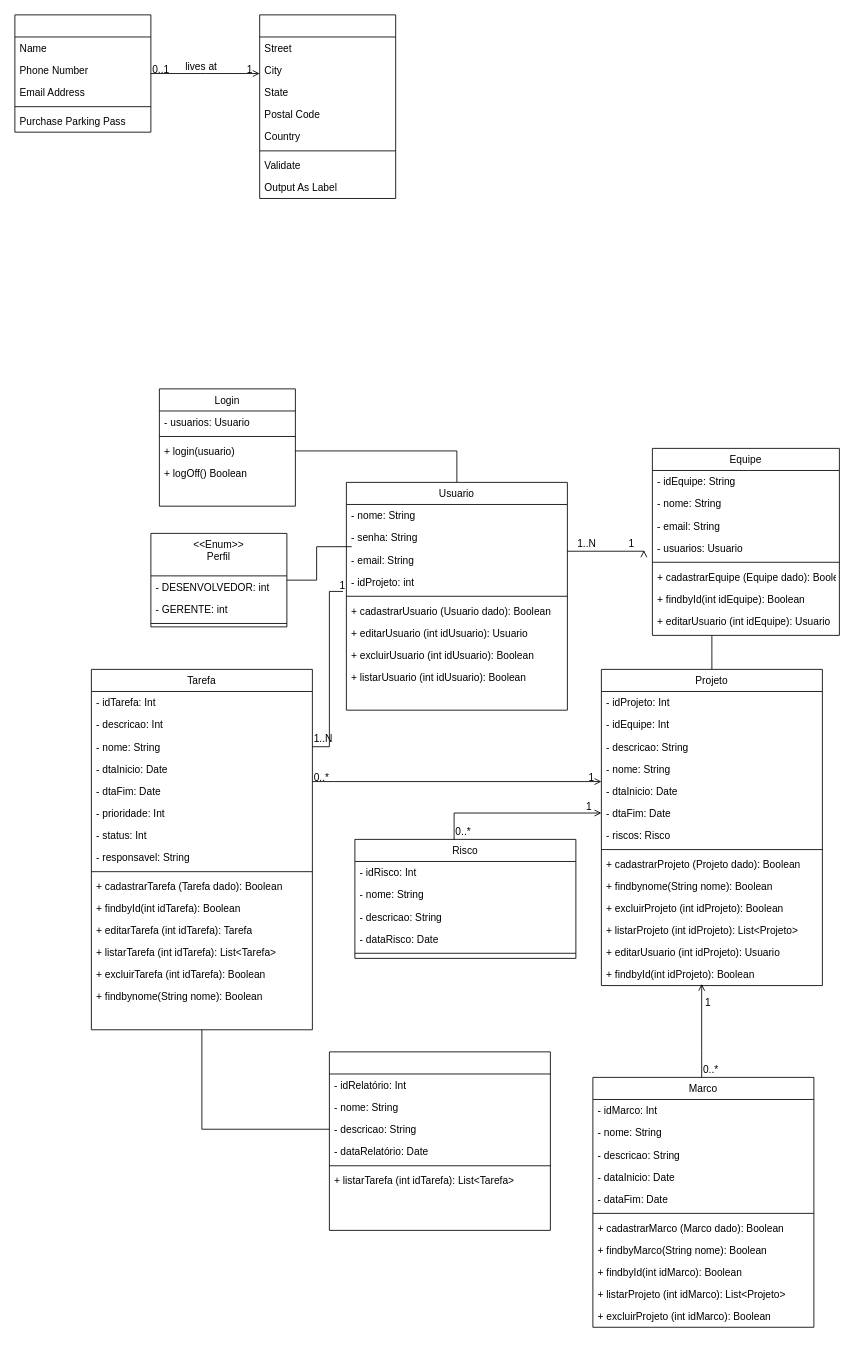
Image size: 864x1345. Some labels were removed from this diagram. The shapes that lost their labels are listed below. From the top down, each one's box as (x1, y1, x2, y2) in pixels, then its label:
(14, 14, 151, 132): Person
(259, 14, 396, 198): Address
(329, 1051, 550, 1230): Relatorios
